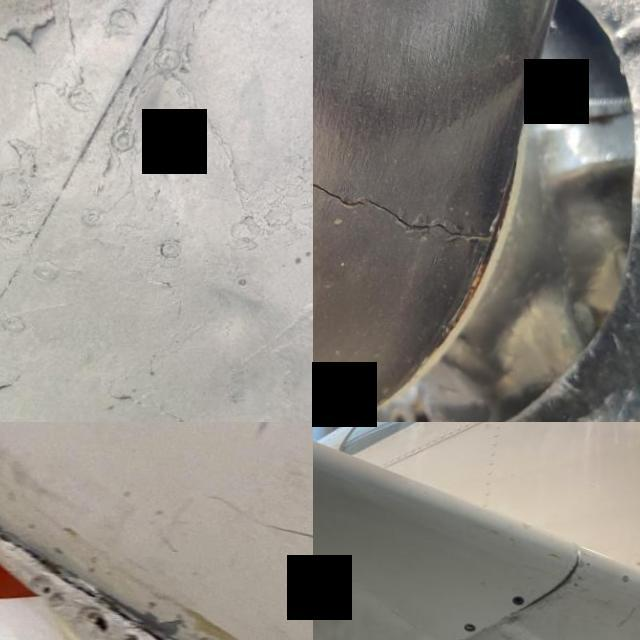Crack: (313, 96, 503, 288)
Dent: (108, 52, 240, 231)
Missing_Fastener: (508, 592, 524, 604), (461, 619, 476, 630)
